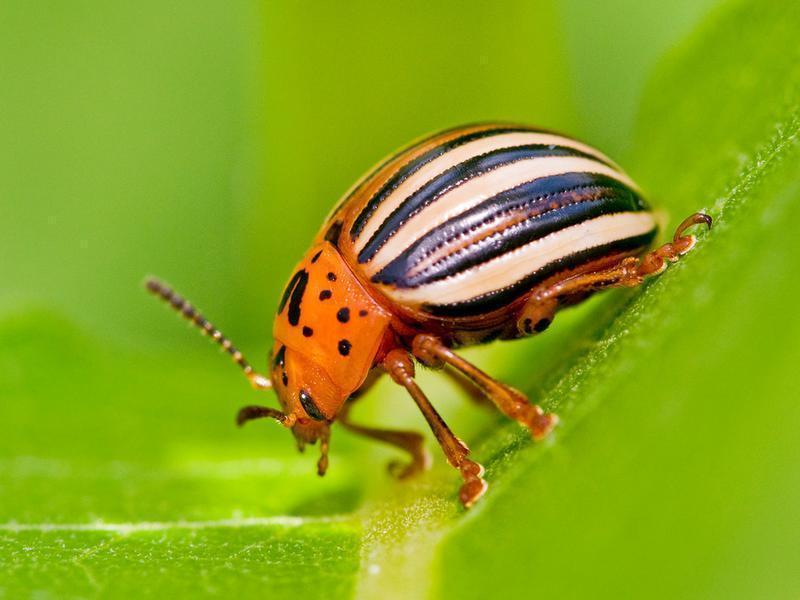hrosc: (247, 100, 693, 513)
